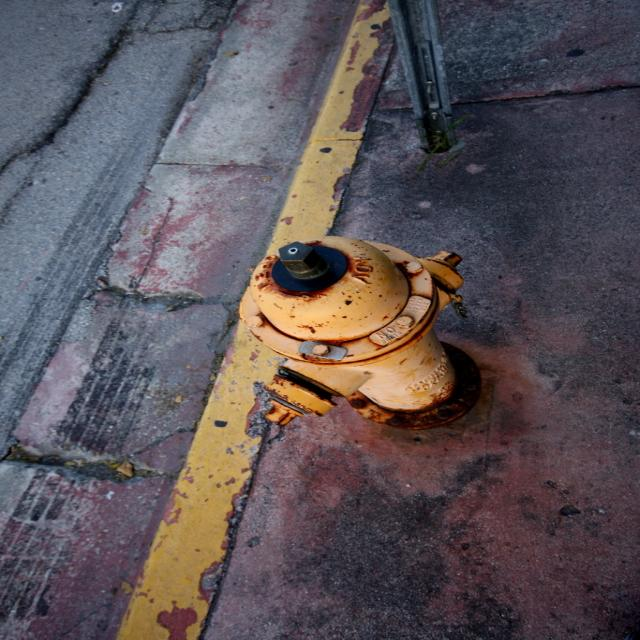fire_hydrant: (242, 237, 486, 427)
